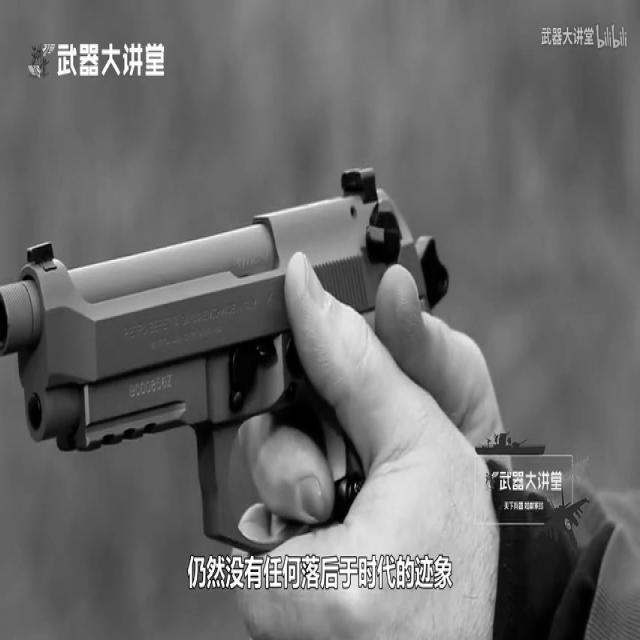Hand-Gun: (0, 120, 479, 640)
